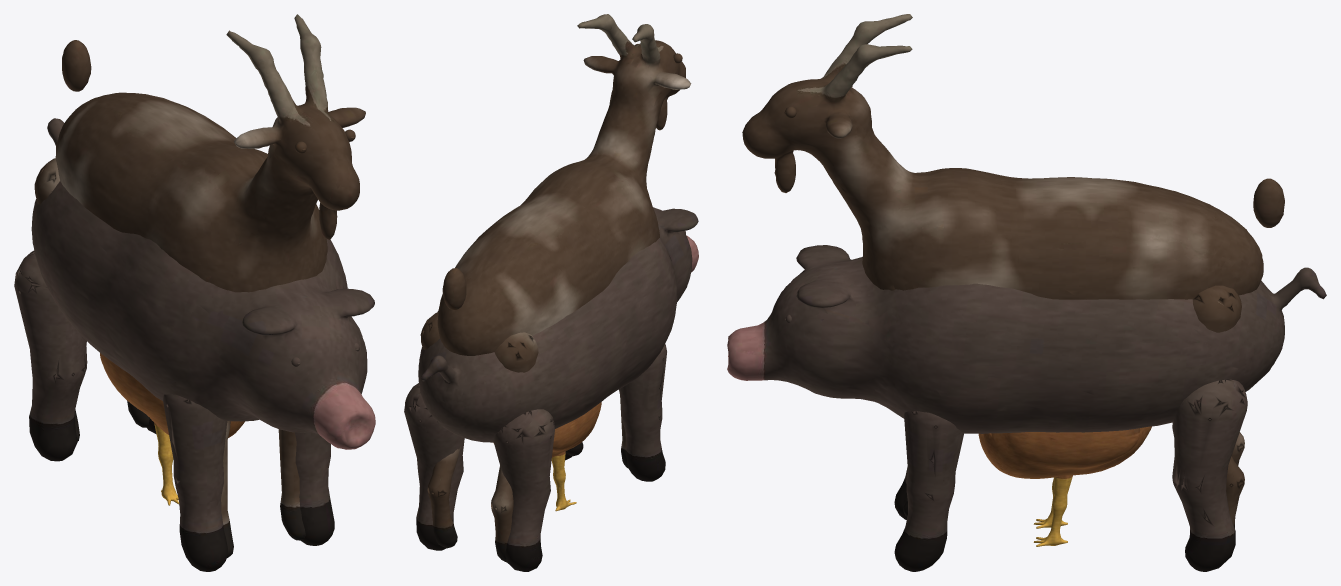
Rendered from criaturas4.glb.
The picture shows the model from 3 angles, left to right: view 1: azimuth 30°, elevation 25°; view 2: azimuth 150°, elevation 25°; view 3: azimuth 270°, elevation 25°; orthographic projection. The views are drawn at different scales.
Visible parts, largest first — view 1: CR_cabra_cuerpo, CR_cerdo_cuerpo, CR_cerdo_pTI, CR_cerdo_pDI, CR_cerdo_pDD, CR_cabra_pDD, CR_gallina_cuerpo, CR_gallina_pDI, CR_cabra_pTI, CR_cabra_pDI; view 2: CR_cabra_cuerpo, CR_cerdo_cuerpo, CR_cerdo_pTI, CR_cerdo_pDI, CR_cerdo_pTD, CR_cabra_pTI, CR_cabra_pTD, CR_gallina_cuerpo, CR_gallina_pDI; view 3: CR_cerdo_cuerpo, CR_cabra_cuerpo, CR_cerdo_pTD, CR_cerdo_pDD, CR_gallina_cuerpo, CR_cabra_pTD, CR_gallina_pDD.
Part boxes in pixels (box(x1,y1,x2,y2)): CR_cabra_cuerpo: box(55, 14, 365, 292); CR_cerdo_cuerpo: box(31, 118, 375, 449); CR_cerdo_pTI: box(14, 250, 87, 461); CR_cerdo_pDI: box(163, 394, 227, 571); CR_cerdo_pDD: box(295, 432, 334, 545); CR_cabra_pDD: box(278, 429, 305, 540); CR_gallina_cuerpo: box(100, 353, 244, 437); CR_gallina_pDI: box(154, 422, 179, 505); CR_cabra_pTI: box(34, 158, 79, 441); CR_cabra_pDI: box(221, 421, 233, 557); CR_cabra_cuerpo: box(437, 14, 691, 355); CR_cerdo_cuerpo: box(418, 207, 698, 442); CR_cerdo_pTI: box(493, 409, 554, 571); CR_cerdo_pDI: box(619, 344, 666, 481); CR_cerdo_pTD: box(404, 383, 464, 550); CR_cabra_pTI: box(491, 332, 538, 562); CR_cabra_pTD: box(420, 312, 460, 548); CR_gallina_cuerpo: box(493, 402, 601, 457); CR_gallina_pDI: box(551, 451, 576, 511); CR_cerdo_cuerpo: box(727, 245, 1326, 433); CR_cabra_cuerpo: box(742, 14, 1284, 299); CR_cerdo_pTD: box(1172, 379, 1247, 571); CR_cerdo_pDD: box(894, 411, 963, 571); CR_gallina_cuerpo: box(978, 426, 1151, 478); CR_cabra_pTD: box(1192, 285, 1244, 528); CR_gallina_pDD: box(1033, 475, 1072, 546).
Bounding box in the file's own units: 0.4115 × 1.06 × 1.12.
3 materials, 3 textured.
